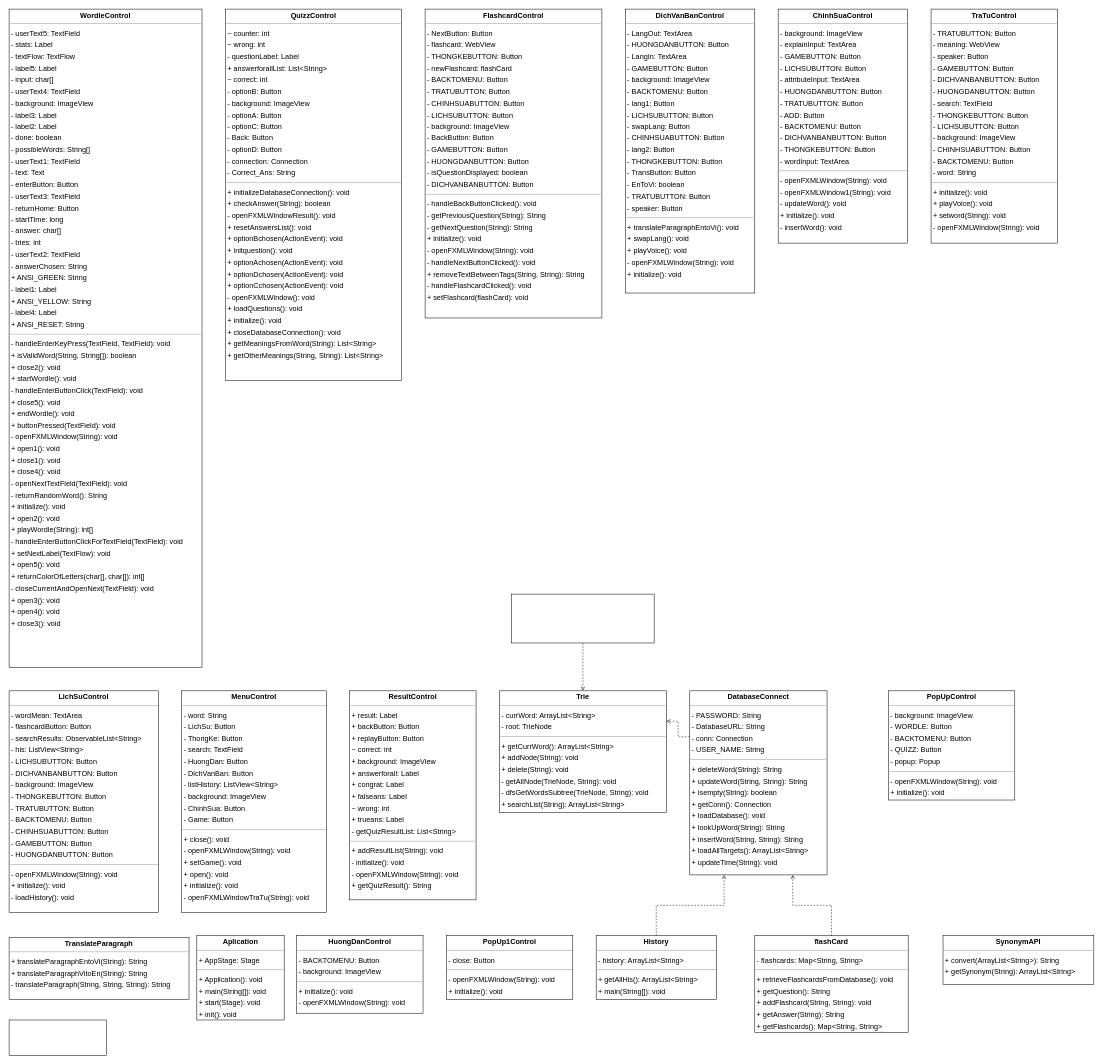
This 1103x1064 diagram has some shape labels left out. Here are the shapes that lost their labels. From the top down, the centre of each, then its label:
At point (582, 618): "TrieNode ~ isEndOfWord: boolean ~ children: Map<Character, TrieNode>".
At point (57, 1037): "TextToSpeech + playVoice(String): void".
